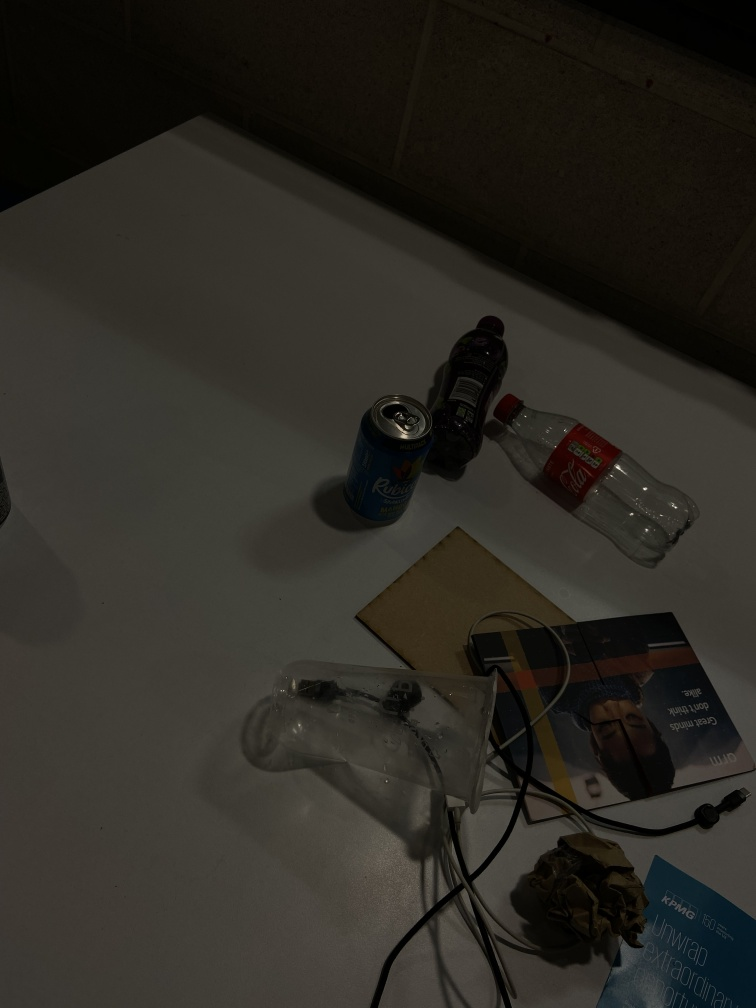bottle_purple: (424, 309, 511, 476)
bottle_red: (491, 389, 705, 566)
can_blue: (343, 389, 432, 538)
paper_brown: (525, 834, 654, 971)
